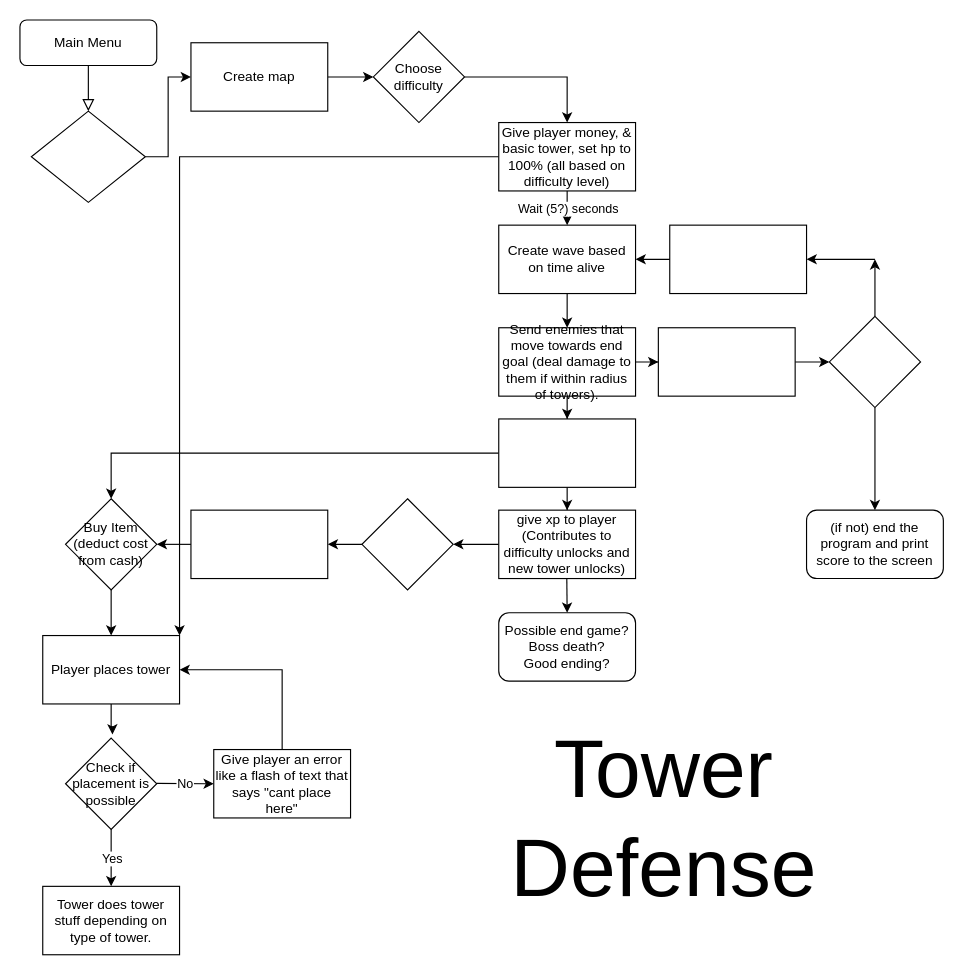
The diagram is 963 pixels wide and 975 high, and some of its shapes have lost their labels. The shapes that lost their labels are listed below. From the top down, each one's centre as x and y in pixels, then its label:
At pixel 87 156: "Create new game".
At pixel 738 259: "(if) Time before waves (undetermined)".
At pixel 726 361: "Deal damage to hp if reached end goal".
At pixel 874 361: "hp > 0 (If alive)".
At pixel 567 452: "If enemies defeated (money is given based on tier and type to the player)".
At pixel 259 544: "Display unlocked towers and upgrades".
At pixel 407 544: "Open shop".
